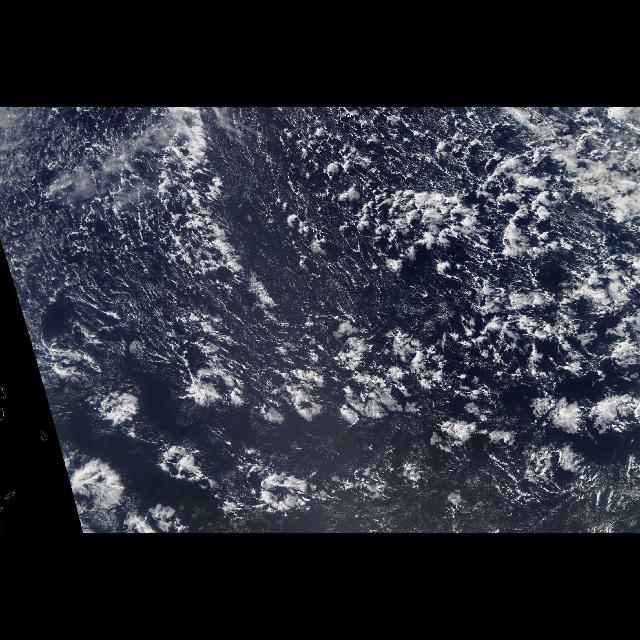Flower: (34, 337, 638, 533)
Gravel: (10, 108, 636, 452)
Sugar: (1, 110, 359, 366), (316, 450, 636, 530)
